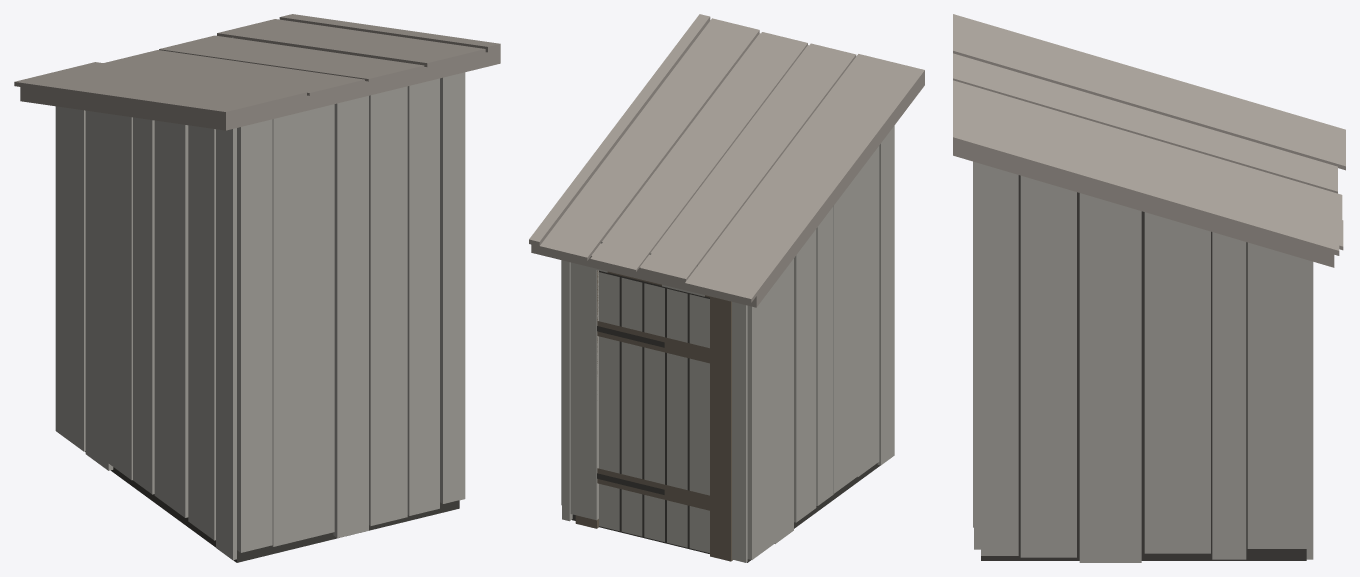
Rendered from recon_1835_blk_washington_clinton_a3_16__inferred_1835.glb.
The picture shows the model from 3 angles, left to right: view 1: azimuth 30°, elevation 25°; view 2: azimuth 150°, elevation 25°; view 3: azimuth 270°, elevation 25°; orthographic projection. The views are drawn at different scales.
Parts seen in each view (by area): view 1: recon_1835_blk_washington_clinton_a3_16__inferred_1835; view 2: recon_1835_blk_washington_clinton_a3_16__inferred_1835; view 3: recon_1835_blk_washington_clinton_a3_16__inferred_1835.
Part boxes in pixels (<box>): recon_1835_blk_washington_clinton_a3_16__inferred_1835: <box>14,14,500,562</box>; recon_1835_blk_washington_clinton_a3_16__inferred_1835: <box>529,14,924,562</box>; recon_1835_blk_washington_clinton_a3_16__inferred_1835: <box>953,14,1345,562</box>.
Size of the model in its own units: 1.71 by 2.8 by 2.28.
